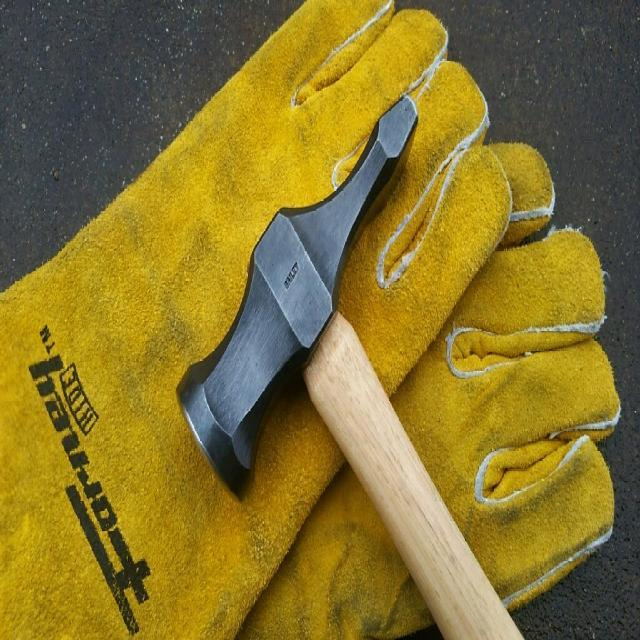hammer: (175, 93, 534, 640)
